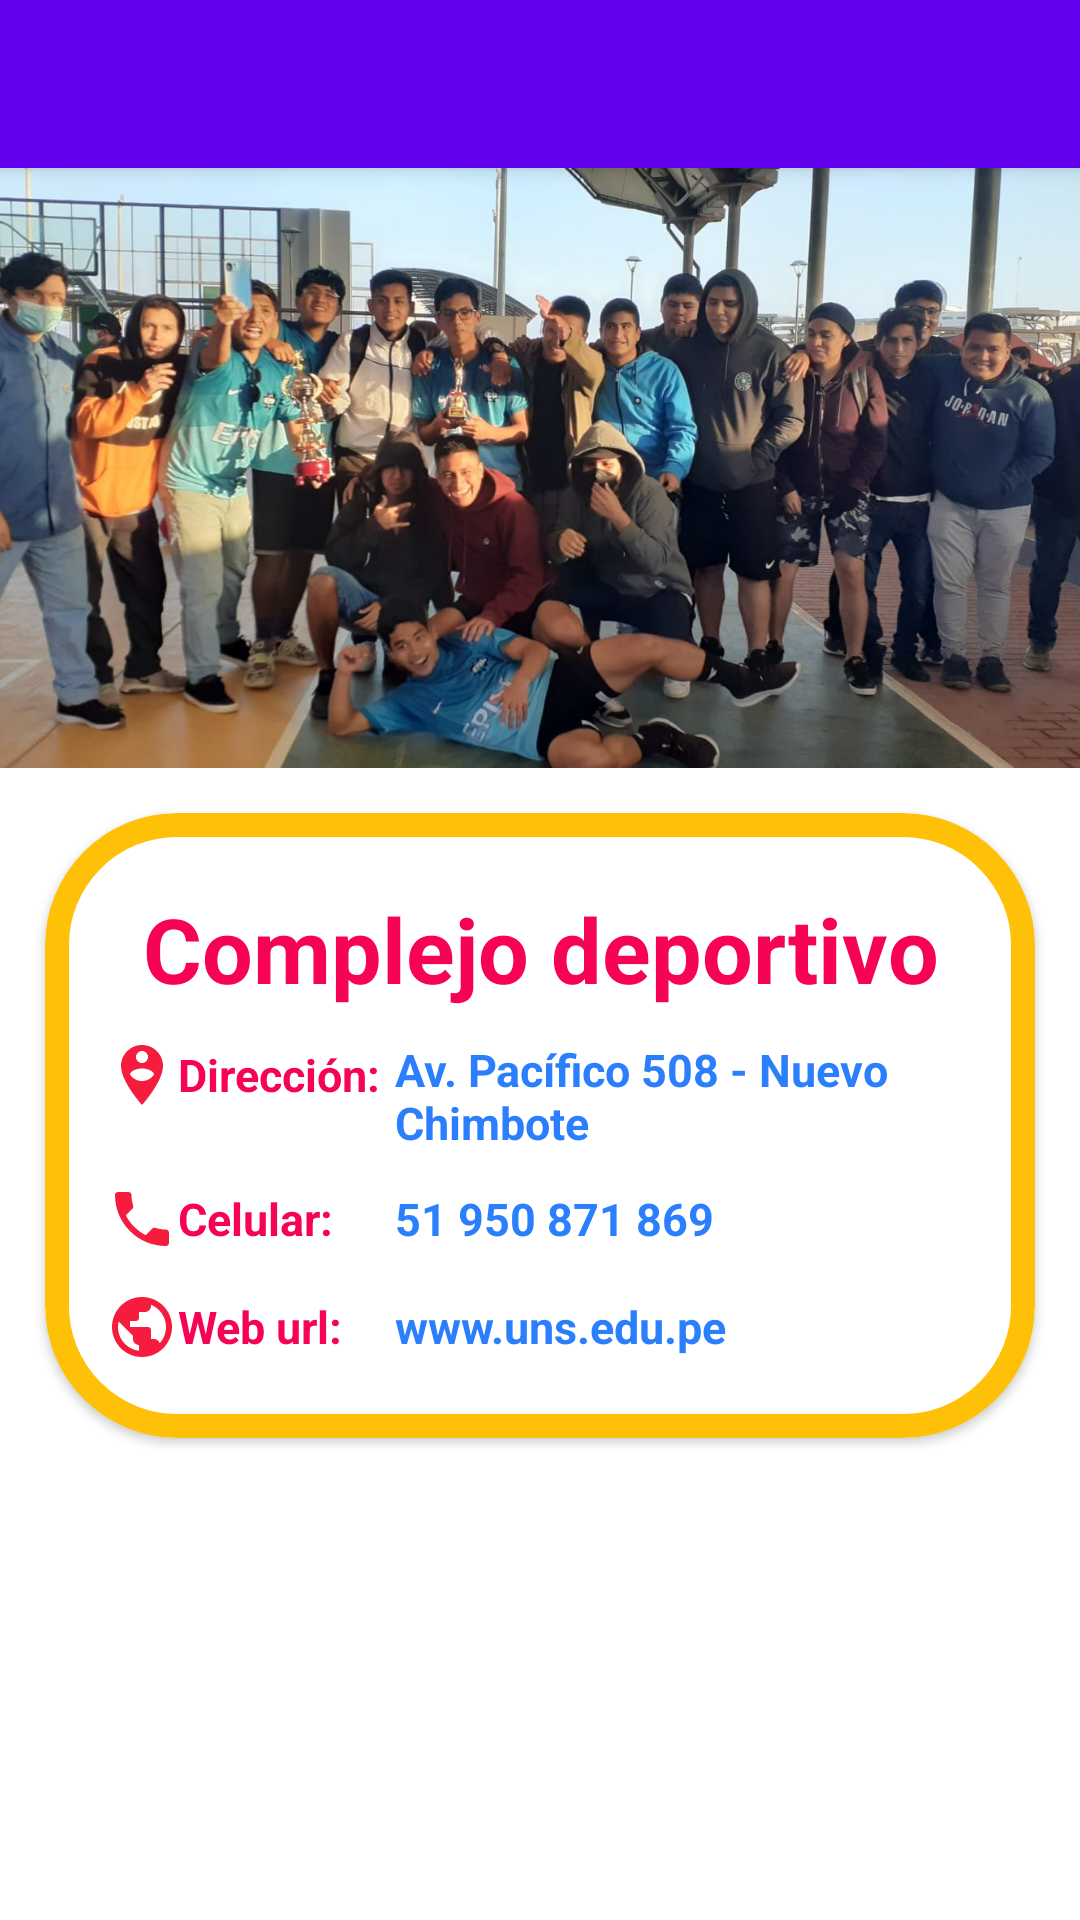

Icons on this 1080 × 1920 Android screen, each with the point to tap as (x,y):
phone: (142,1219)
pin circle: (142,1075)
